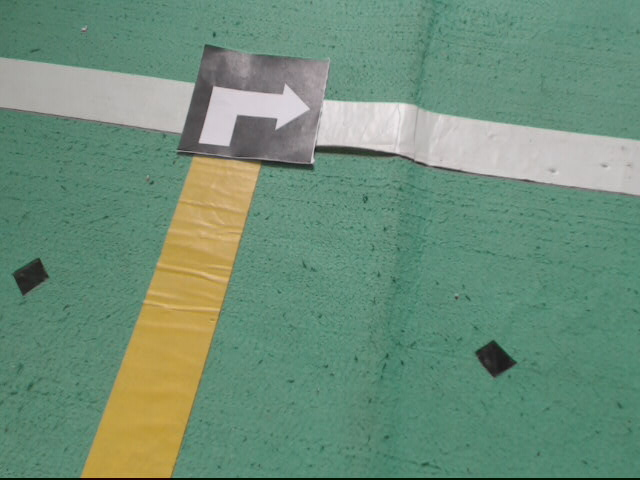right: (179, 46, 330, 168)
